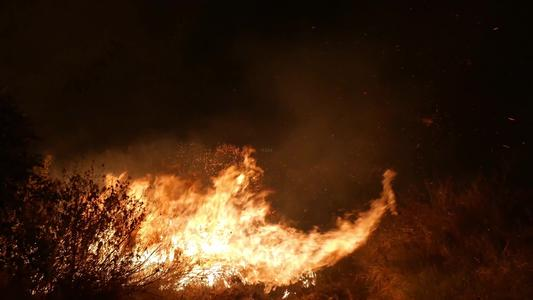fire: (108, 174, 389, 282)
